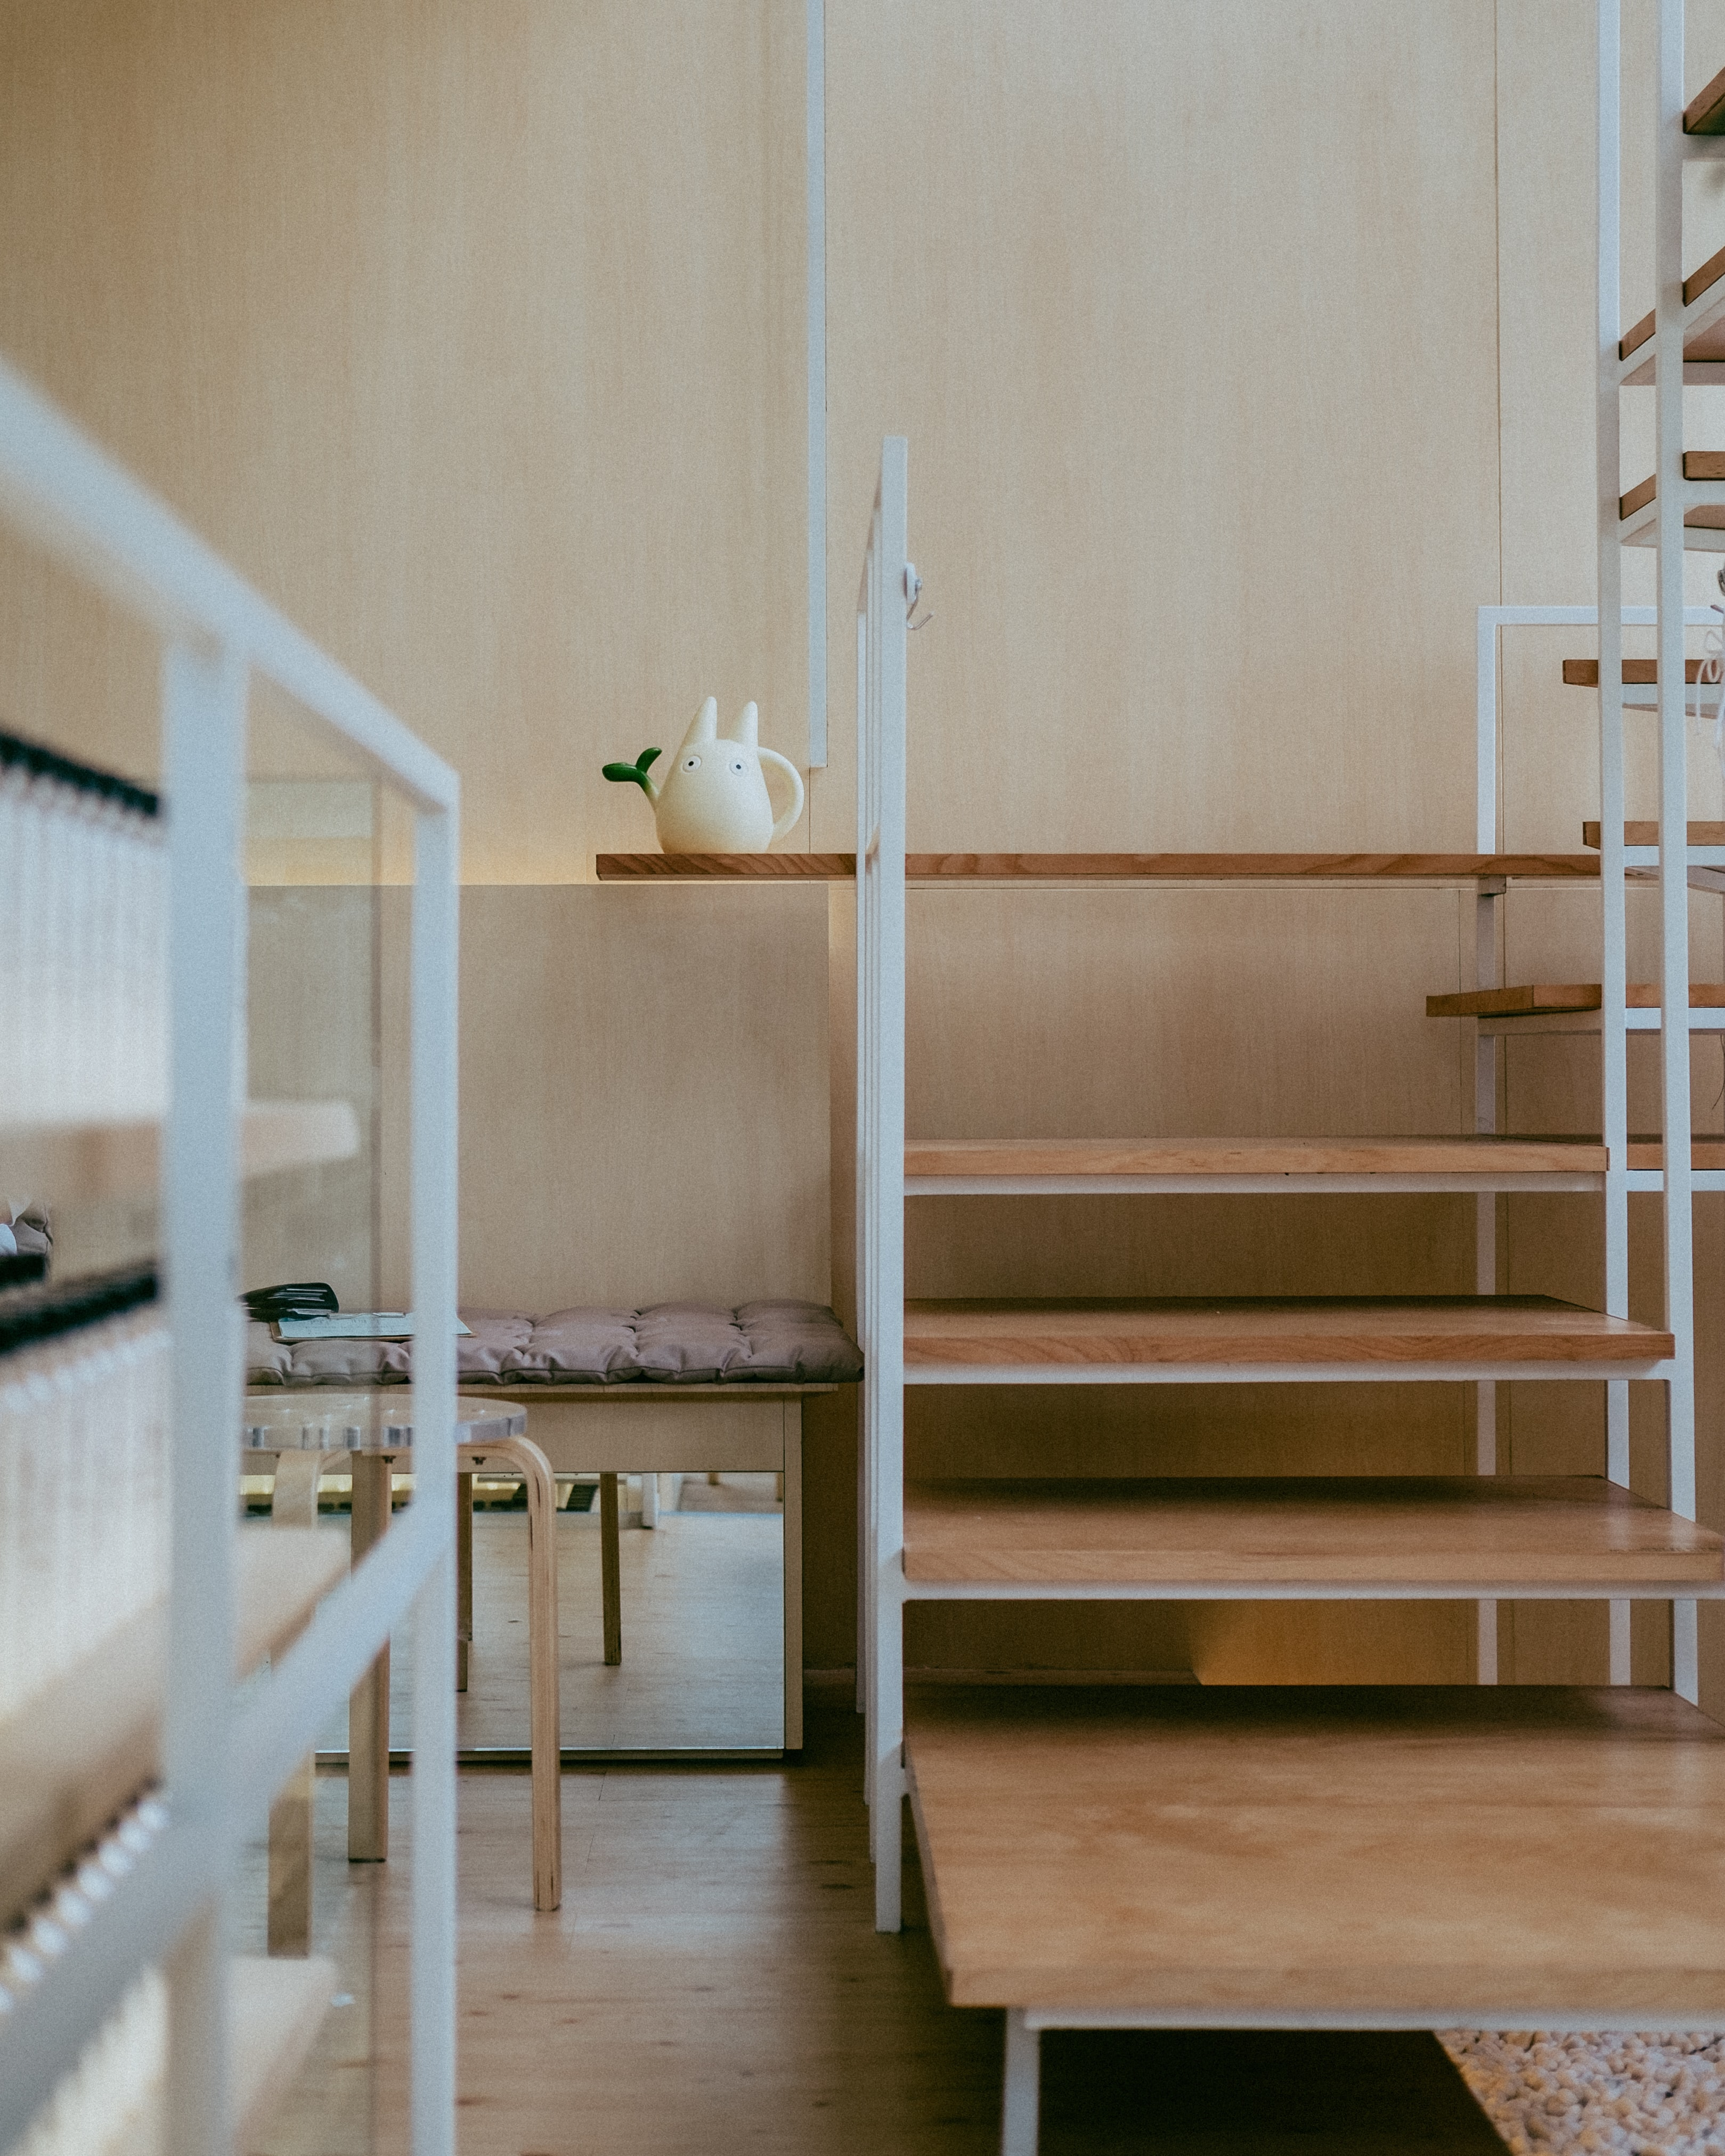upstairs: (884, 1065, 1695, 1755)
